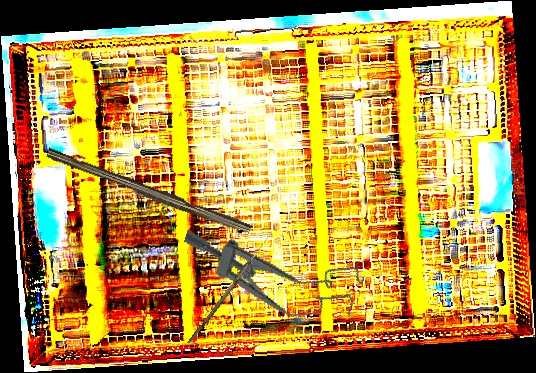Scalpel Handle: (43, 147, 254, 238)
Speculum: (172, 216, 367, 334)
Surgical Spoon: (187, 230, 274, 346)
